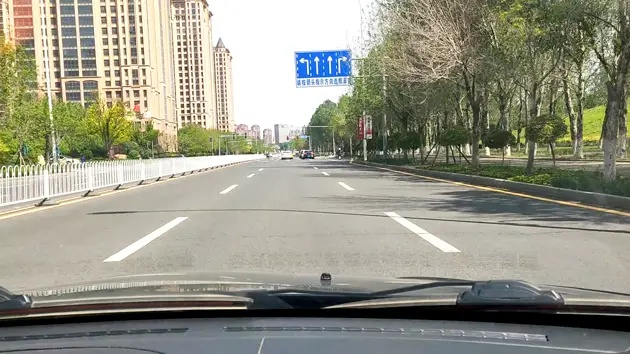lane: (106, 209, 200, 258), (378, 207, 462, 255), (217, 174, 245, 200), (246, 163, 273, 179), (333, 178, 361, 193), (313, 165, 331, 177)
